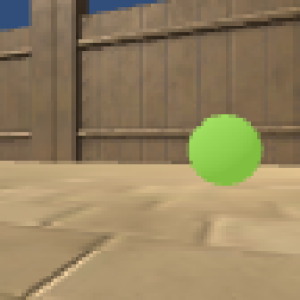goodGoal: (185, 110, 267, 188)
